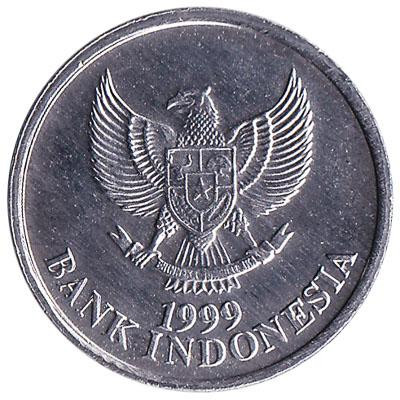coin_100_e1999: (7, 5, 399, 397)
